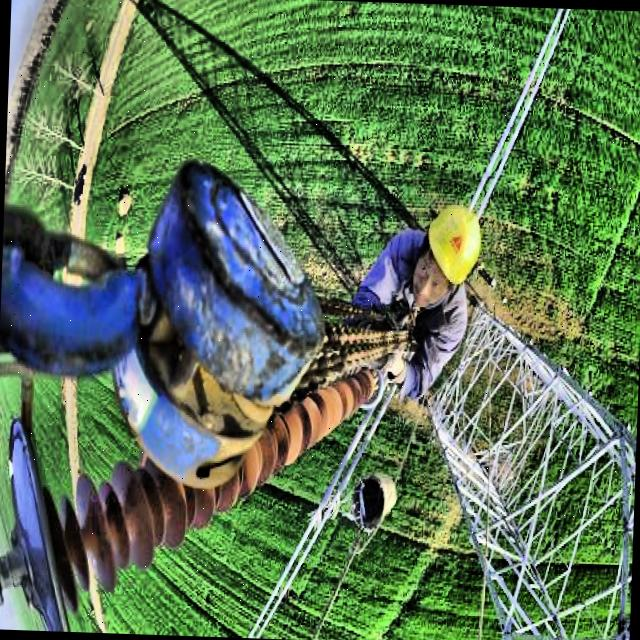helmet: (412, 195, 484, 312)
